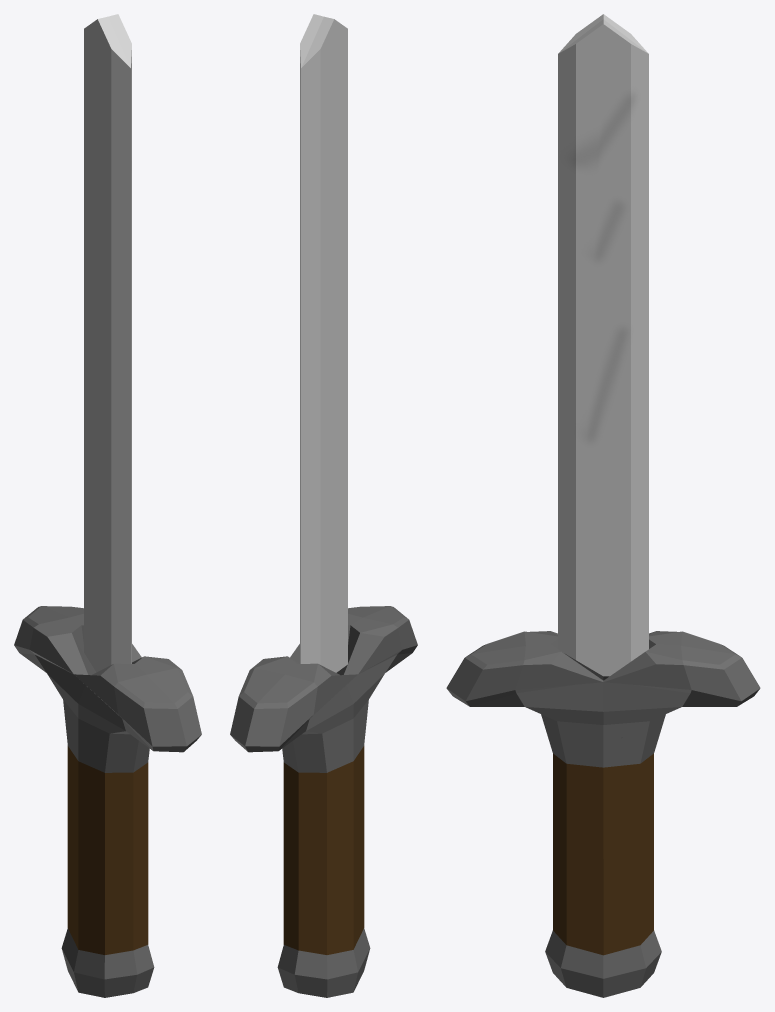
Rendered from PlaceholderSword.fbx.
The picture shows the model from 3 angles, left to right: view 1: azimuth 30°, elevation 25°; view 2: azimuth 150°, elevation 25°; view 3: azimuth 270°, elevation 25°; orthographic projection.
Visible parts, largest first — view 1: Model; view 2: Model; view 3: Model.
Boxes of the visible parts, x1,y1,x2,y2 form: Model: (14, 14, 201, 997); Model: (230, 14, 417, 997); Model: (446, 14, 760, 997).
Size of the model in its own units: 2.51 by 34.35 by 10.05.
